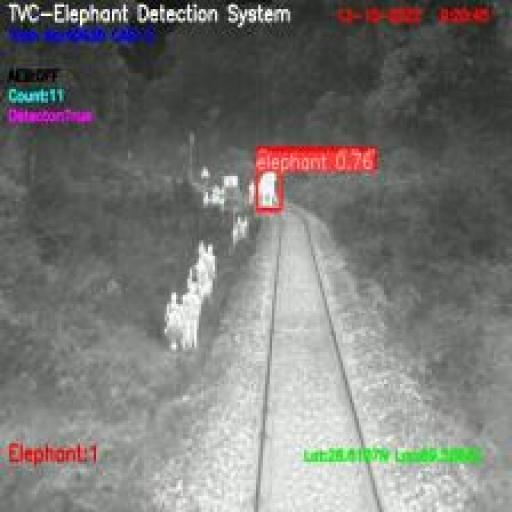Elephant: (256, 172, 280, 212)
